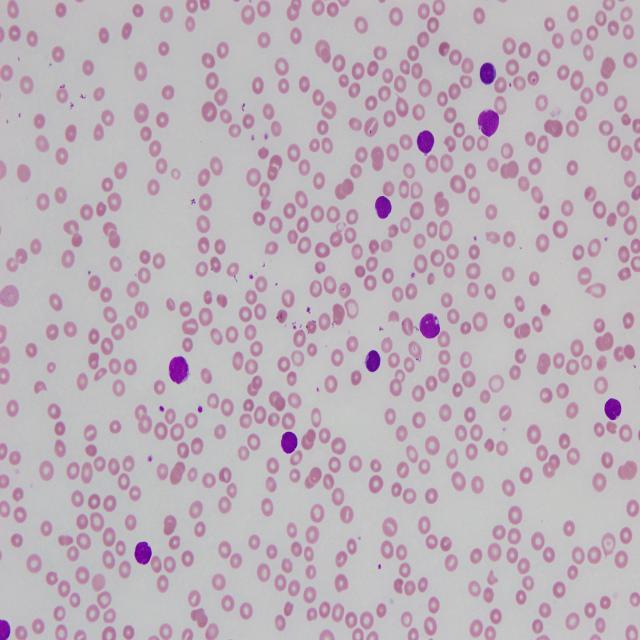cell: (478, 110, 499, 137), (169, 357, 189, 383), (420, 313, 440, 338), (604, 398, 621, 420), (418, 130, 434, 153), (135, 542, 151, 565), (281, 432, 298, 453), (480, 63, 496, 84), (375, 197, 391, 218), (365, 350, 380, 372)
